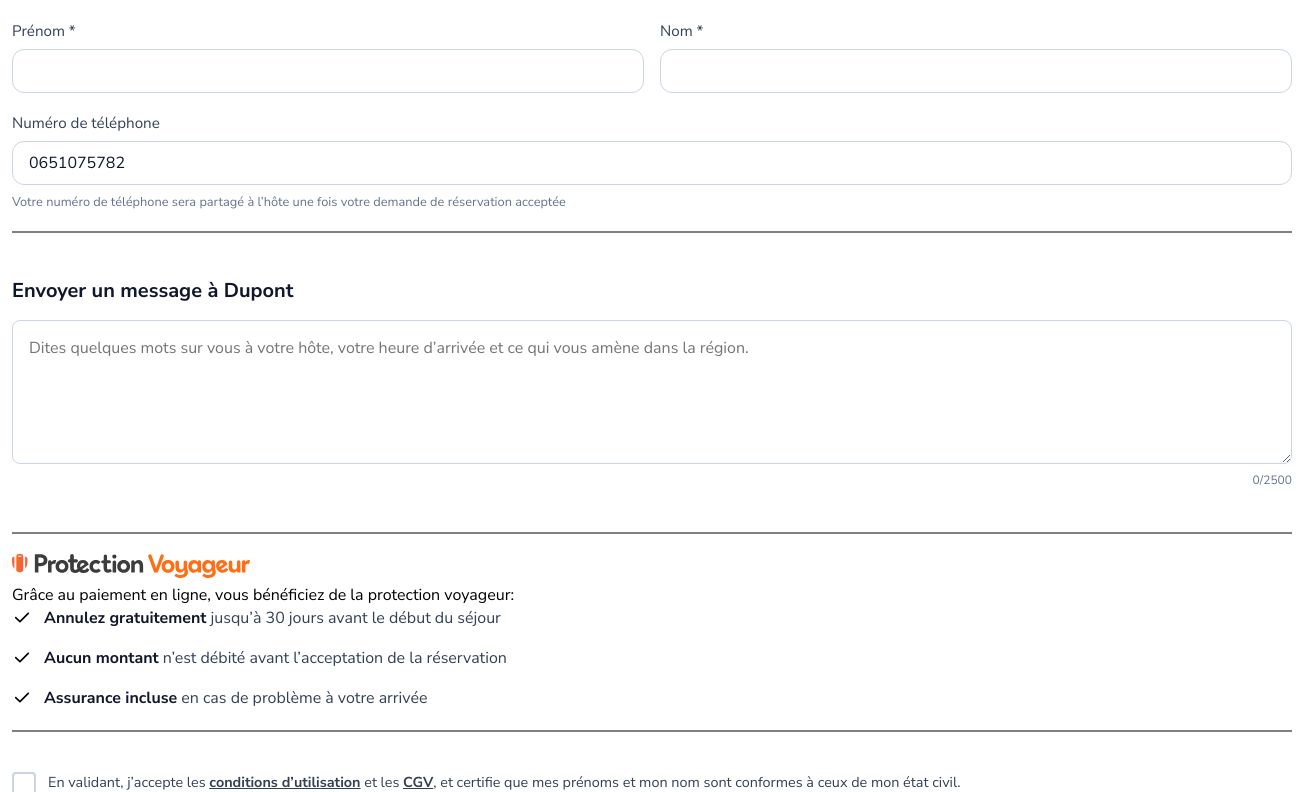
Test: PanneauReservationAnnonce.vue › met à jour le compteur de caractères du message
(page scrolled)
Replace the text in the text box with "Bonjour" at (652, 392), box [12,320,1292,464]
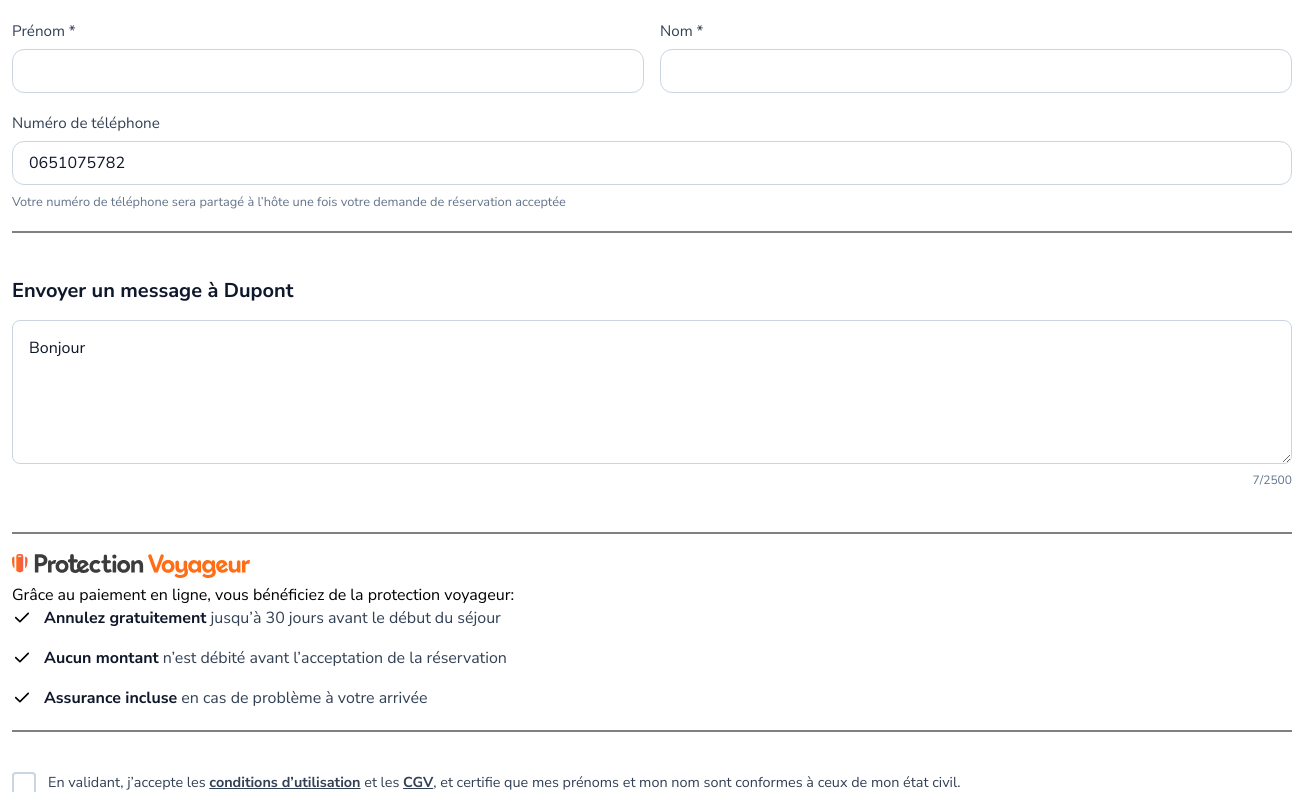
Now the element with class "compteur-caracteres" reads "7/2500", box [1253,472,1292,488]
